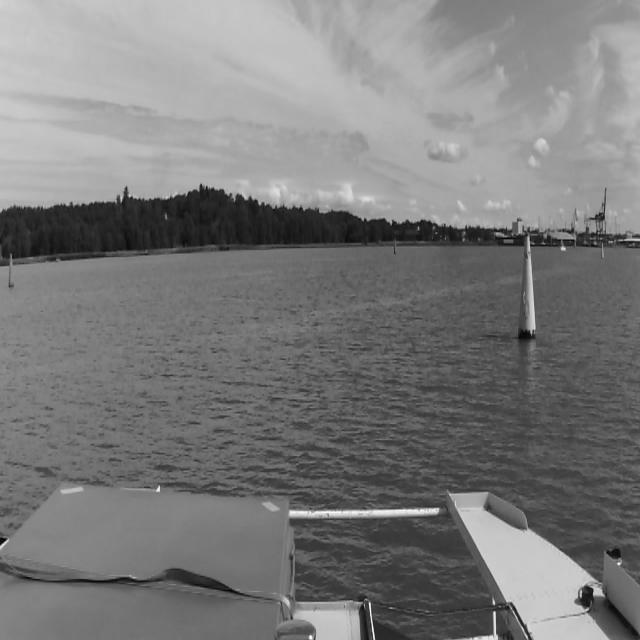buoy: (520, 236, 536, 335), (8, 256, 14, 284), (600, 240, 603, 259), (394, 238, 396, 254)
ship: (558, 230, 566, 253)
